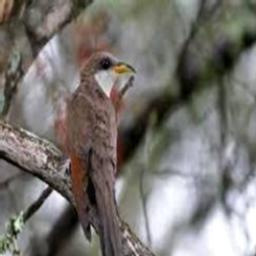Cuckoo: (67, 50, 136, 256)
